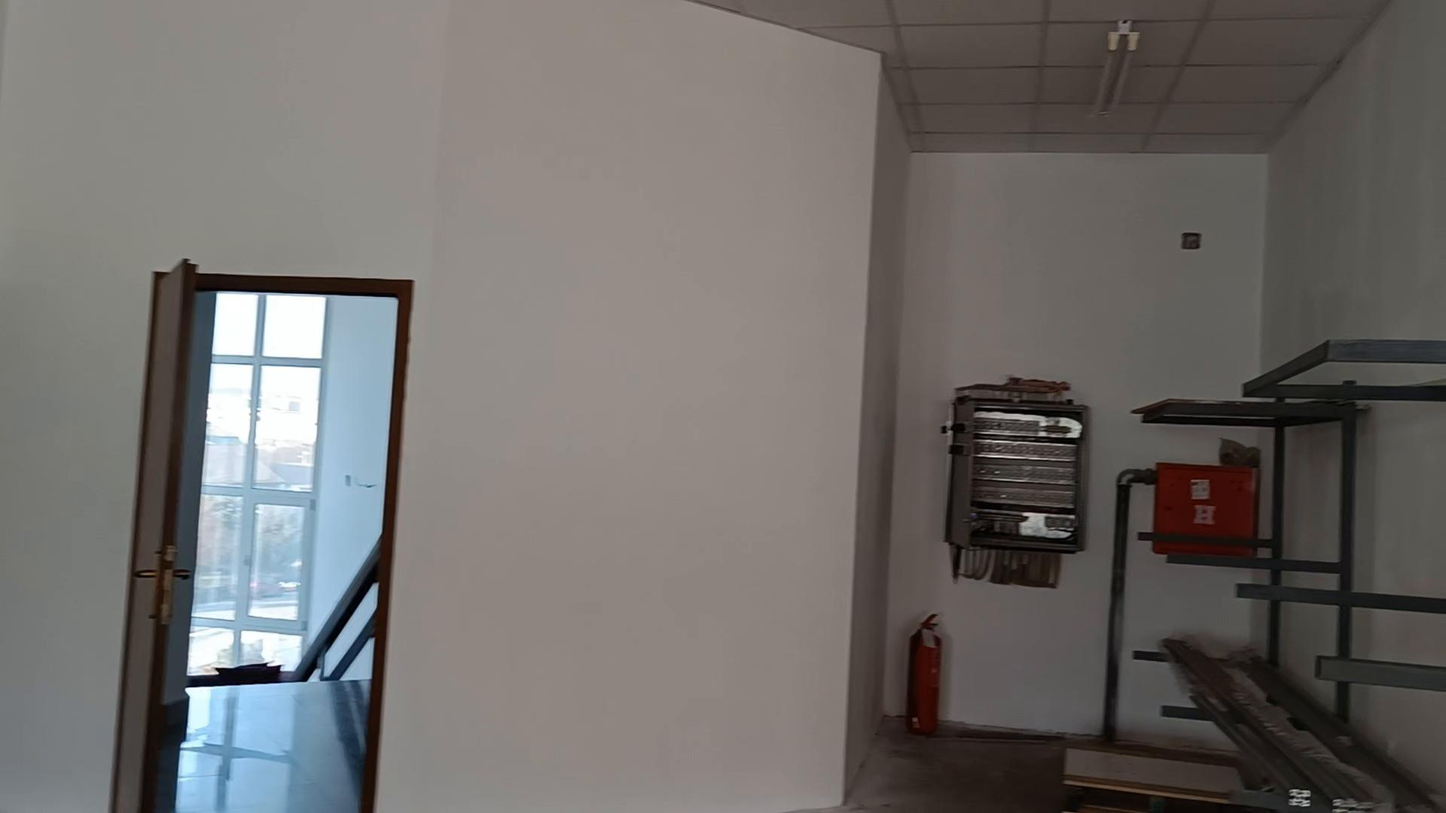ceiling: (696, 0, 1388, 153)
floor: (834, 717, 1264, 812)
wall: (4, 1, 1445, 812), (1356, 403, 1445, 596)
